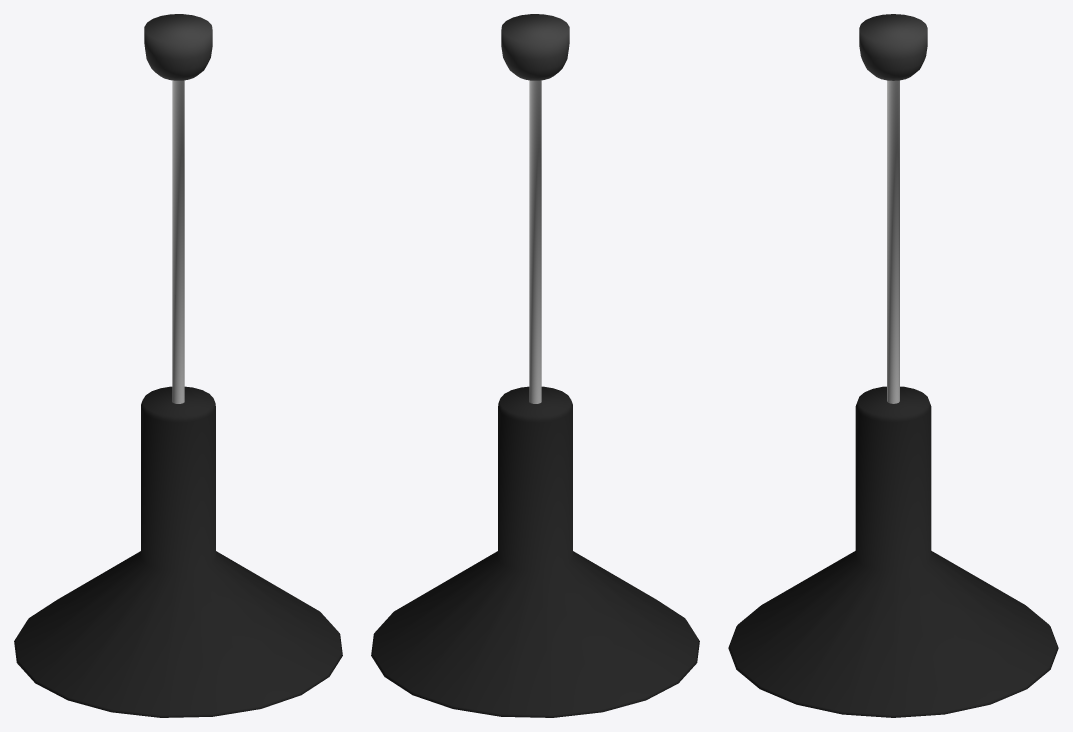
The model's file is Chandelier-2.fbx.
3 renders of one model, left to right at view 1: azimuth 30°, elevation 25°; view 2: azimuth 150°, elevation 25°; view 3: azimuth 270°, elevation 25°, orthographic.
Parts seen in each view (by area): view 1: Chandelier-2; view 2: Chandelier-2; view 3: Chandelier-2.
Boxes of the visible parts, bbox=[...] form: Chandelier-2: bbox=[14, 14, 342, 717]; Chandelier-2: bbox=[371, 14, 699, 717]; Chandelier-2: bbox=[728, 14, 1058, 717].
Bounding box in the file's own units: 0.4825 × 1 × 0.4825.
